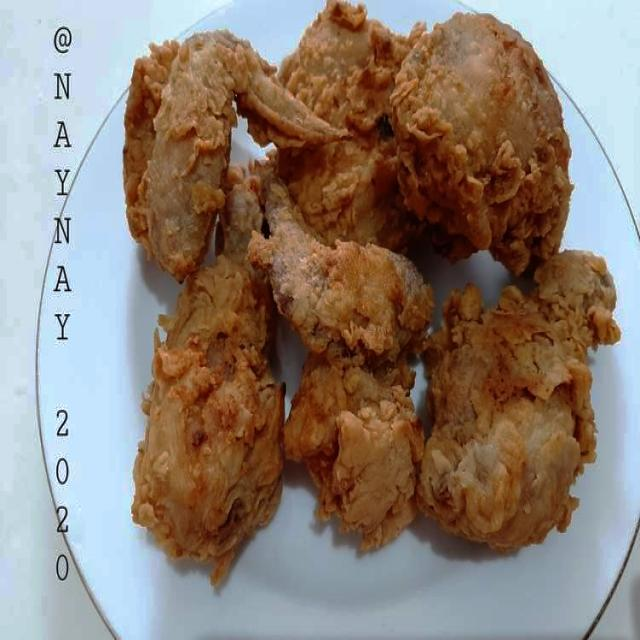fried_chicken: (424, 240, 620, 566), (130, 170, 288, 563), (124, 40, 356, 274), (393, 18, 579, 278), (272, 0, 445, 250), (258, 199, 440, 368), (280, 370, 425, 554)
